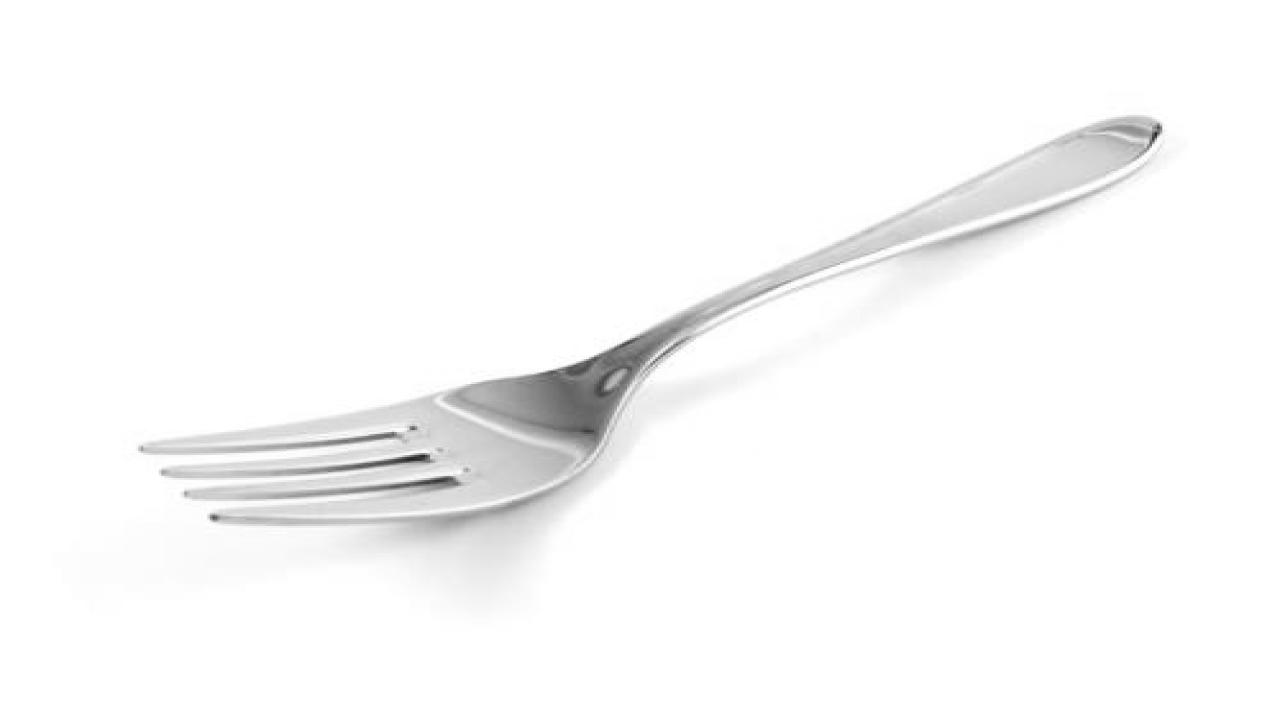fork: (136, 112, 1162, 524)
